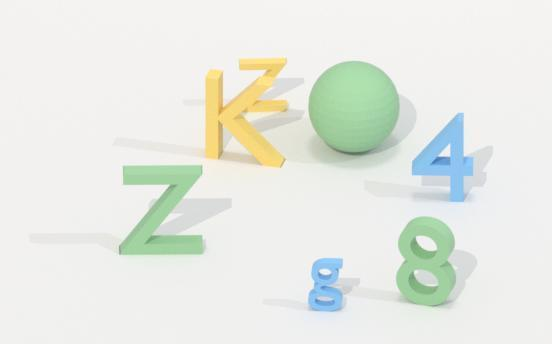chu_khoi: (119, 165, 203, 254), (224, 58, 288, 112), (308, 258, 342, 310)
hinh_cau: (309, 61, 399, 153)
so_khoi: (412, 113, 473, 201), (396, 217, 455, 305)
